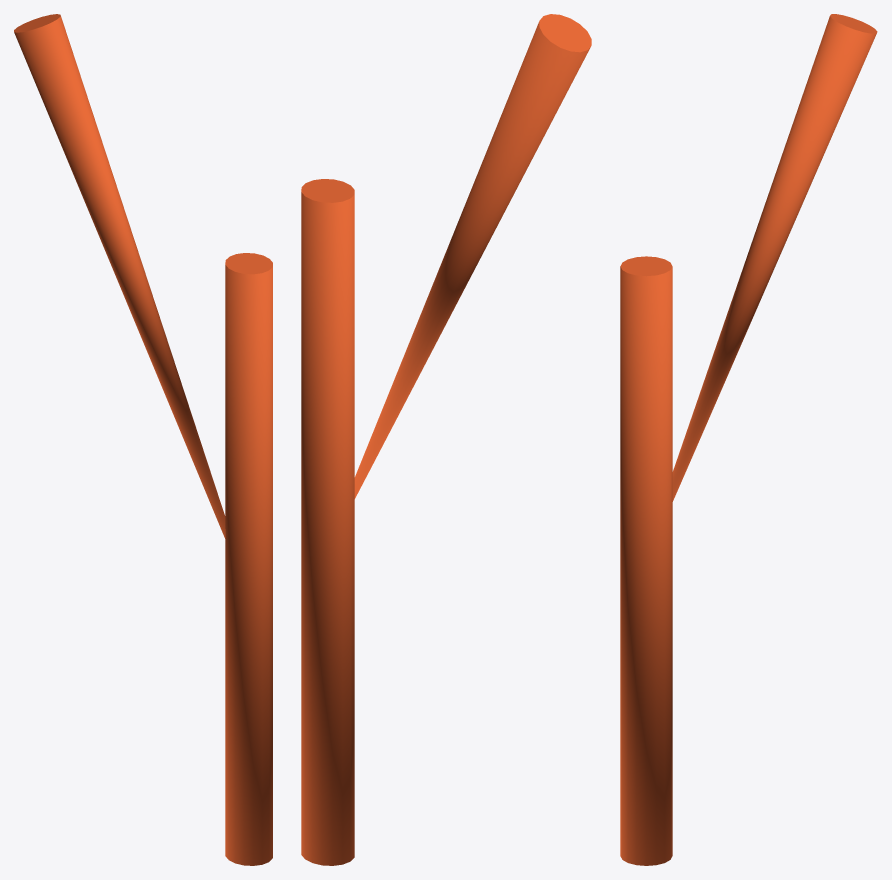
File: Stick.fbx
3 views of the same model, side by side, from view 1: azimuth 30°, elevation 25°; view 2: azimuth 210°, elevation 25°; view 3: azimuth 270°, elevation 25° (orthographic). The views are drawn at different scales.
Parts seen in each view (by area): view 1: Cylinder; view 2: Cylinder; view 3: Cylinder.
Part boxes in pixels (left/top/right/bottom): Cylinder: left=14, top=14, right=272, bottom=865; Cylinder: left=301, top=14, right=591, bottom=865; Cylinder: left=620, top=14, right=877, bottom=865.
Bounding box in the file's own units: 52.57 × 268 × 79.03.
